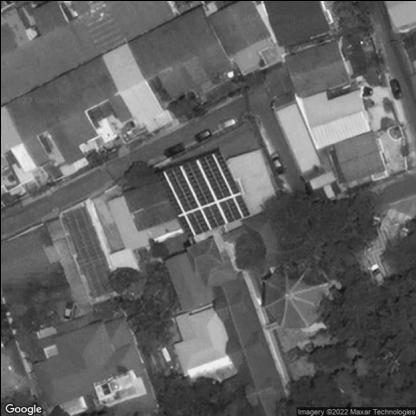solar-pv-panel: (155, 149, 249, 237)
